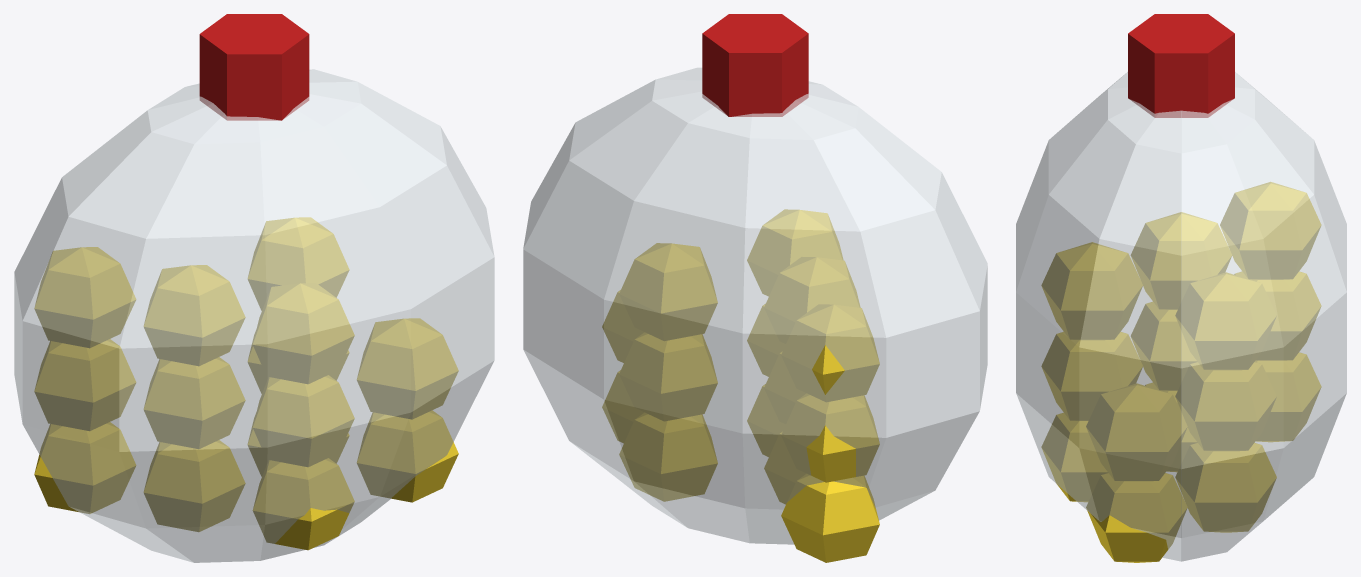
File: plastic_pellets.glb
3 renders of one model, left to right at view 1: azimuth 30°, elevation 25°; view 2: azimuth 150°, elevation 25°; view 3: azimuth 270°, elevation 25°, orthographic. The views are drawn at different scales.
Visible parts, largest first — view 1: bag_pellet_bag, pellets_pellet, tie_pellet_tie; view 2: bag_pellet_bag, pellets_pellet, tie_pellet_tie; view 3: bag_pellet_bag, pellets_pellet, tie_pellet_tie.
Part boxes in pixels (x1,y1,x2,y2): bag_pellet_bag: (14, 69, 494, 562); pellets_pellet: (34, 217, 458, 550); tie_pellet_tie: (199, 14, 309, 120); bag_pellet_bag: (523, 67, 987, 544); pellets_pellet: (602, 209, 879, 562); tie_pellet_tie: (702, 14, 808, 116); bag_pellet_bag: (1016, 72, 1346, 561); pellets_pellet: (1041, 182, 1321, 562); tie_pellet_tie: (1128, 14, 1234, 117).
Bounding box in the file's own units: 0.2925 × 0.31 × 0.1854.
